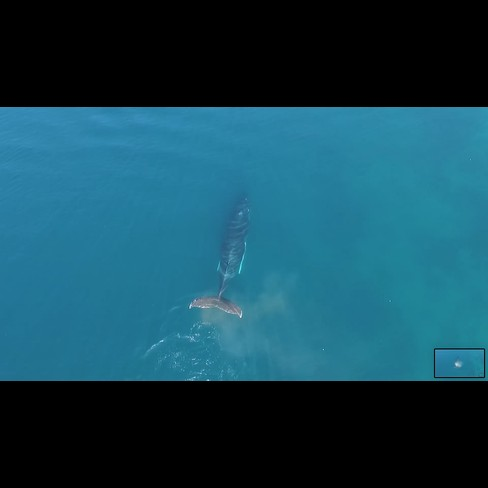hump: (186, 188, 255, 323)
